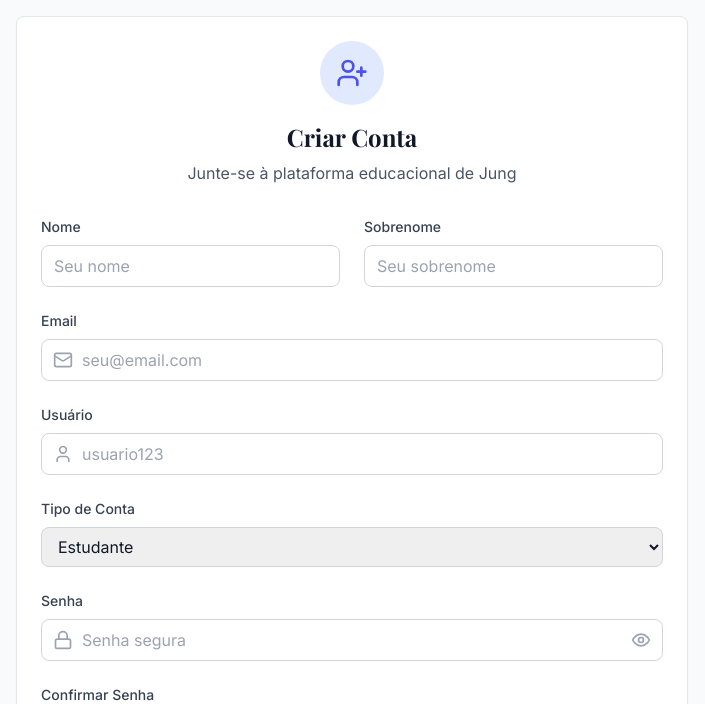
Test: RegisterForm Component › Password Strength Indicator › should show strong password indicator
In the password field labelled "Senha": (352, 640) x1=41 y1=619 x2=663 y2=661, type "VerySecurePassword123!@#"
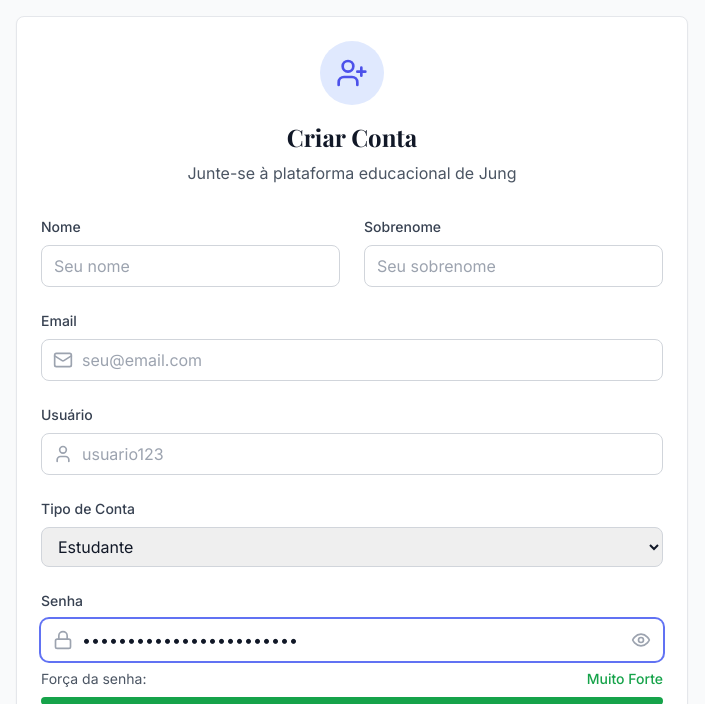
expect the text "Muito Forte" is shown: met, box x1=587 y1=669 x2=663 y2=689
